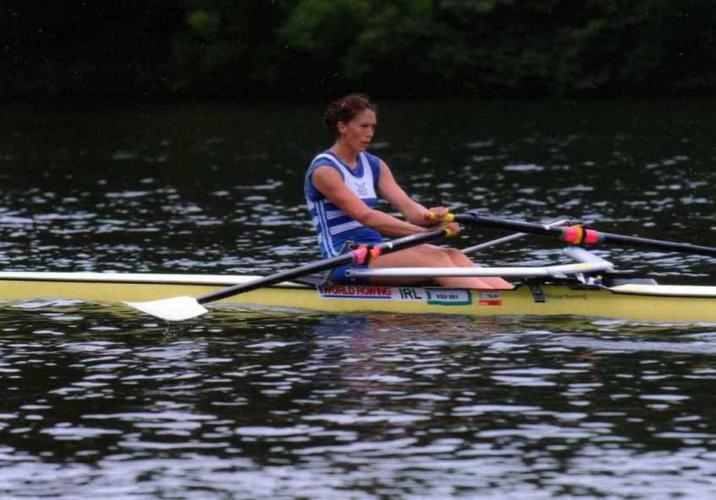person: (302, 101, 519, 296)
